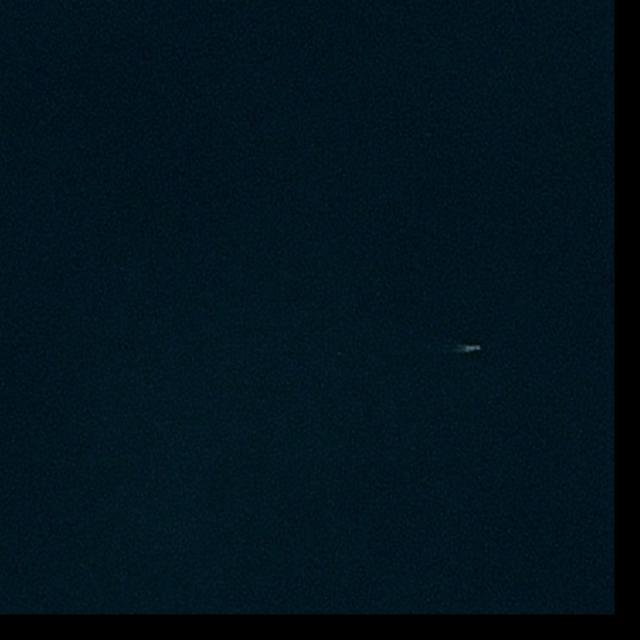ship: (466, 346, 481, 352)
